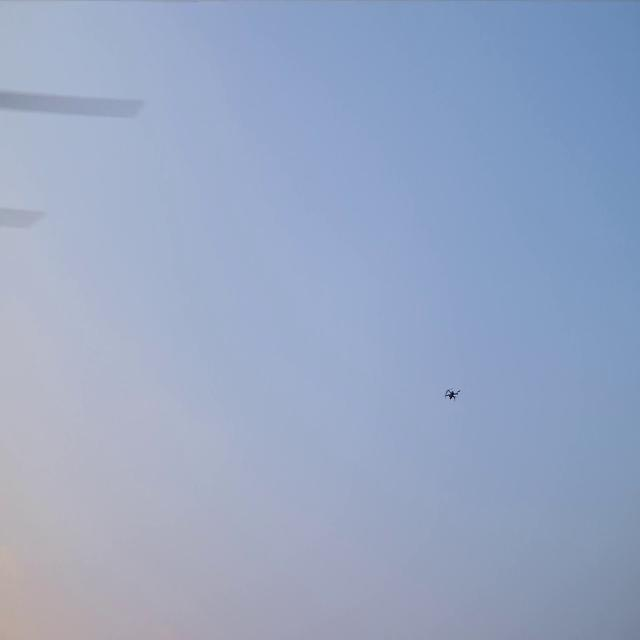UAV: (446, 389, 458, 398)
